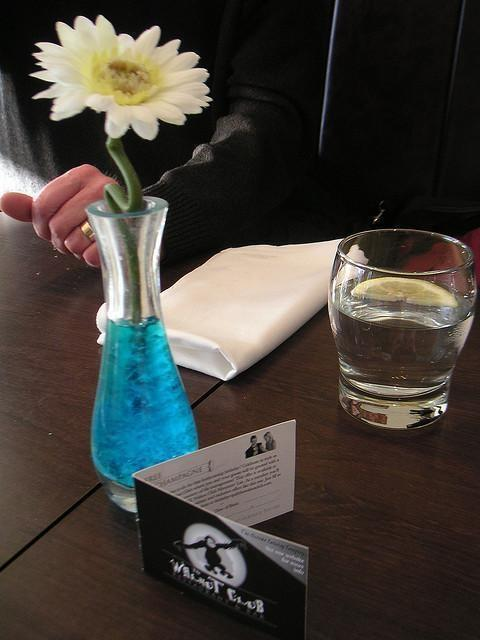glass-normal: (327, 227, 479, 431)
